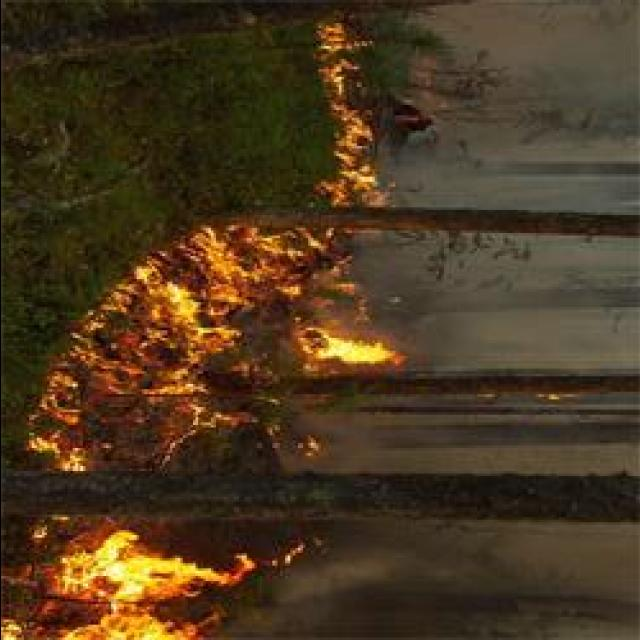fire: (61, 522, 220, 636), (322, 334, 389, 365)
smoke: (281, 555, 398, 592)
